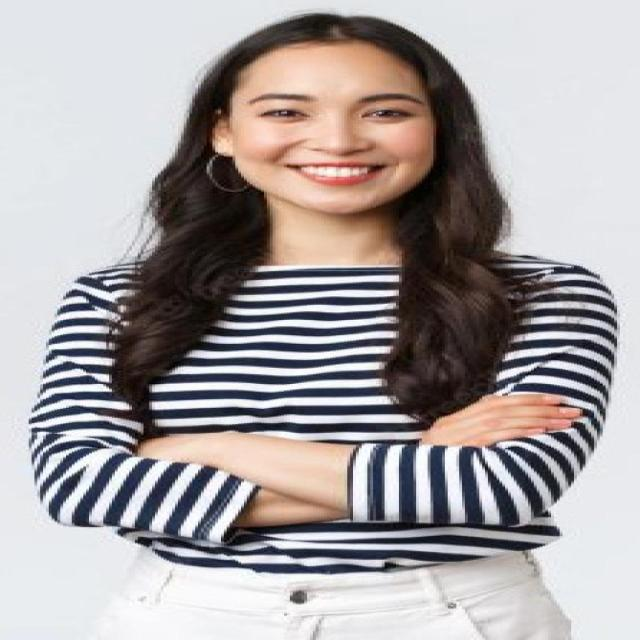Helmet: (23, 226, 640, 605), (90, 0, 627, 237)
